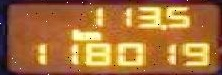-: (158, 22, 164, 29)
0: (114, 40, 143, 66)
1: (164, 41, 178, 66), (33, 40, 47, 65), (91, 4, 105, 27), (64, 42, 78, 65), (118, 5, 131, 29)
3: (133, 4, 158, 27)
5: (162, 4, 189, 27)
8: (80, 41, 111, 66)
9: (180, 41, 207, 65)
X: (83, 30, 103, 40), (69, 27, 82, 40)
